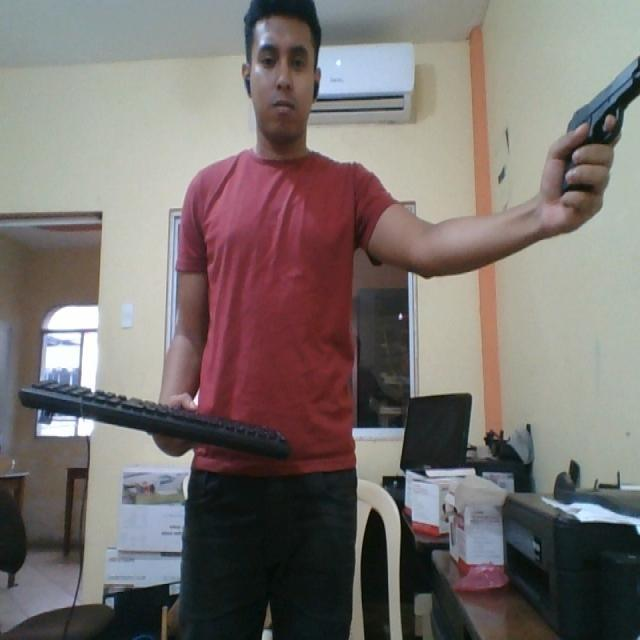weapon: (546, 46, 640, 212)
